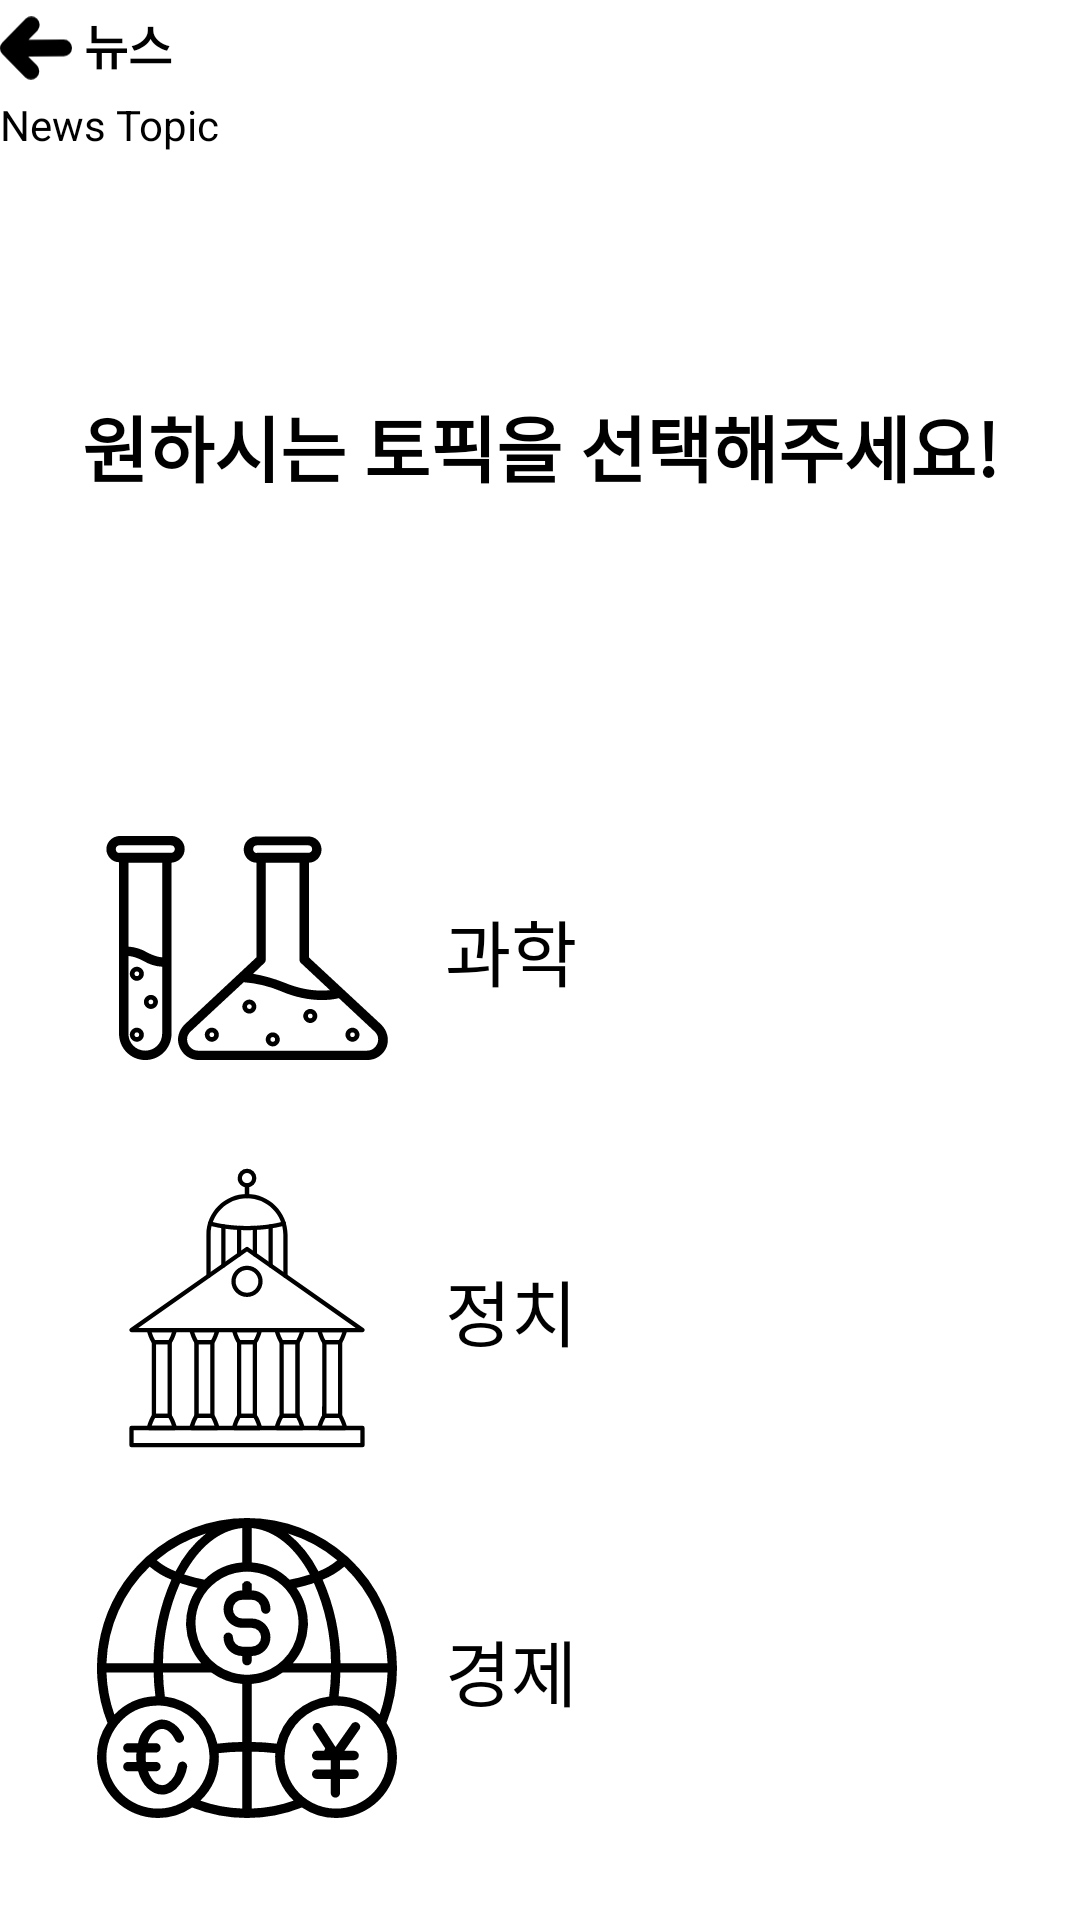

Locate icon controls on the screen. Image size 1080px x 1920px, boxes as box(x1, y1, x2, y2).
back: box(0, 16, 72, 80)
